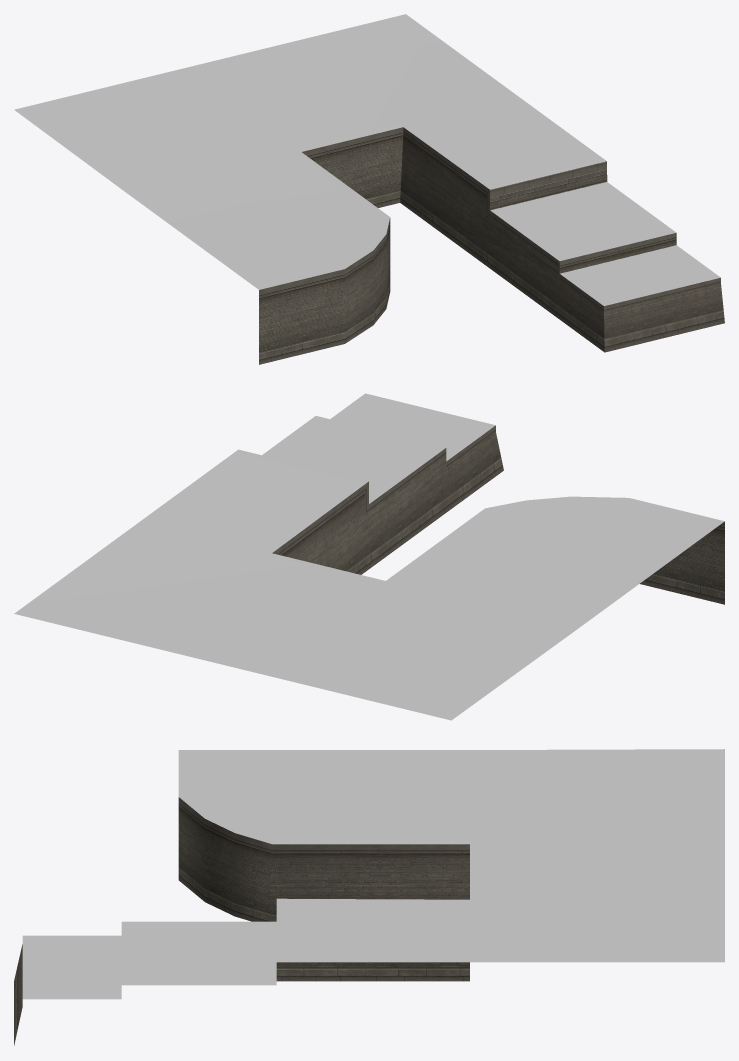
The model's file is s7_jianzhu_pingtai001.FBX.
3 views of the same model, one above another, from view 1: azimuth 30°, elevation 25°; view 2: azimuth 150°, elevation 25°; view 3: azimuth 270°, elevation 25° (orthographic). The views are drawn at different scales.
Parts seen in each view (by area): view 1: s7_jianzhu_pingmiani001, s7_jianzhu_pingtai001, s7_jianzhu_pingmiani002; view 2: s7_jianzhu_pingmiani001, s7_jianzhu_pingtai001, s7_jianzhu_pingmiani002; view 3: s7_jianzhu_pingmiani001, s7_jianzhu_pingtai001, s7_jianzhu_pingmiani002.
Part boxes in pixels (bbox=[...]): s7_jianzhu_pingmiani001: bbox=[14, 14, 711, 302]; s7_jianzhu_pingtai001: bbox=[259, 127, 724, 364]; s7_jianzhu_pingmiani002: bbox=[256, 123, 720, 305]; s7_jianzhu_pingmiani001: bbox=[14, 397, 720, 720]; s7_jianzhu_pingtai001: bbox=[272, 425, 724, 604]; s7_jianzhu_pingmiani002: bbox=[235, 393, 724, 584]; s7_jianzhu_pingmiani001: bbox=[30, 749, 724, 996]; s7_jianzhu_pingtai001: bbox=[14, 797, 469, 1045]; s7_jianzhu_pingmiani002: bbox=[22, 750, 477, 999].
Bounding box in the file's own units: 41.42 × 7.65 × 58.36.
